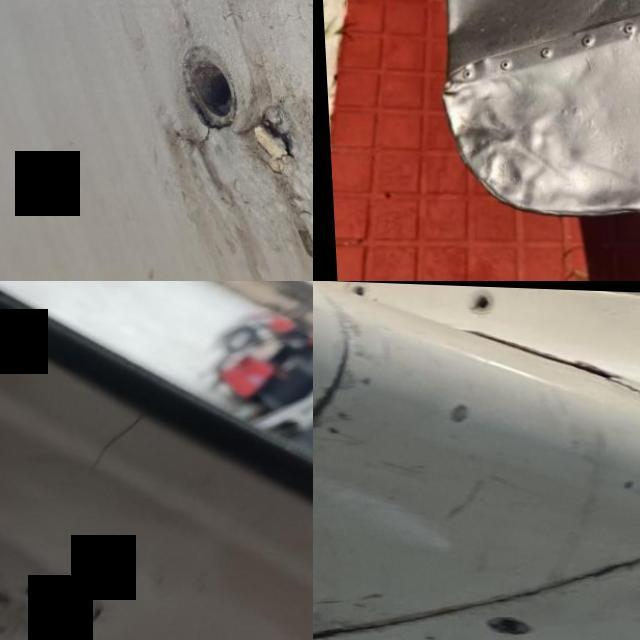Crack: (50, 392, 181, 500), (225, 98, 308, 180), (541, 348, 640, 381)
Dent: (430, 57, 589, 213), (558, 120, 640, 250)
Missing_Fastener: (480, 610, 535, 638), (463, 283, 501, 309), (340, 281, 376, 297)
